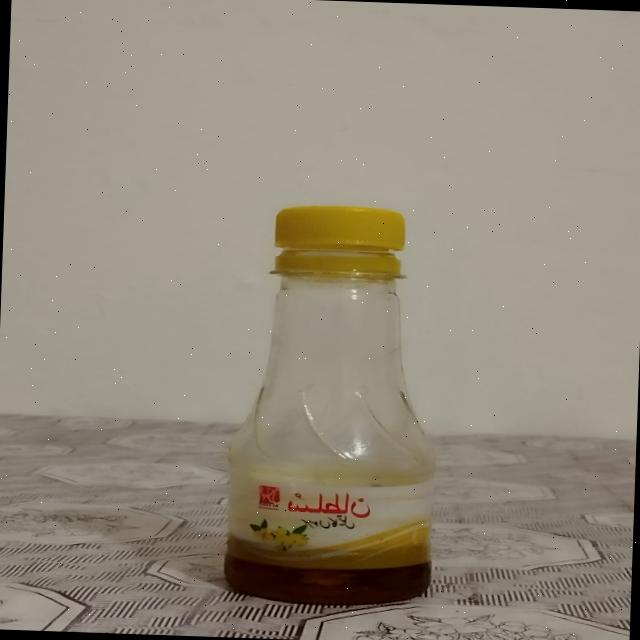bottle: (201, 174, 465, 597)
cap: (270, 192, 416, 280)
label: (232, 446, 439, 586)
